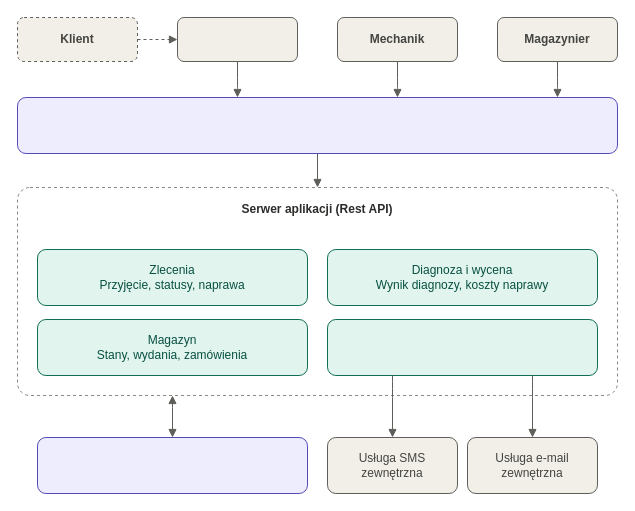
Image size: 635x511. Some labels were removed from this diagram. Each missing label, with the centre of its shape:
Aplikacja webowa Widoki wg ról: biuro, mechanik, magazynier: the point at 317,125
Baza danych Zlecenia, części, historia: the point at 172,465
Biuro: the point at 237,39
Powiadomienia Wysyłka SMS/e-mail, ponawianie: the point at 462,347
